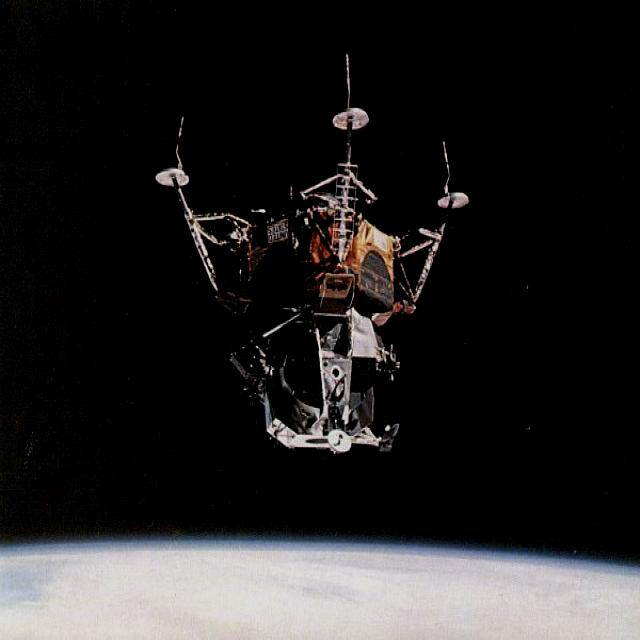satellite: (155, 55, 469, 453)
